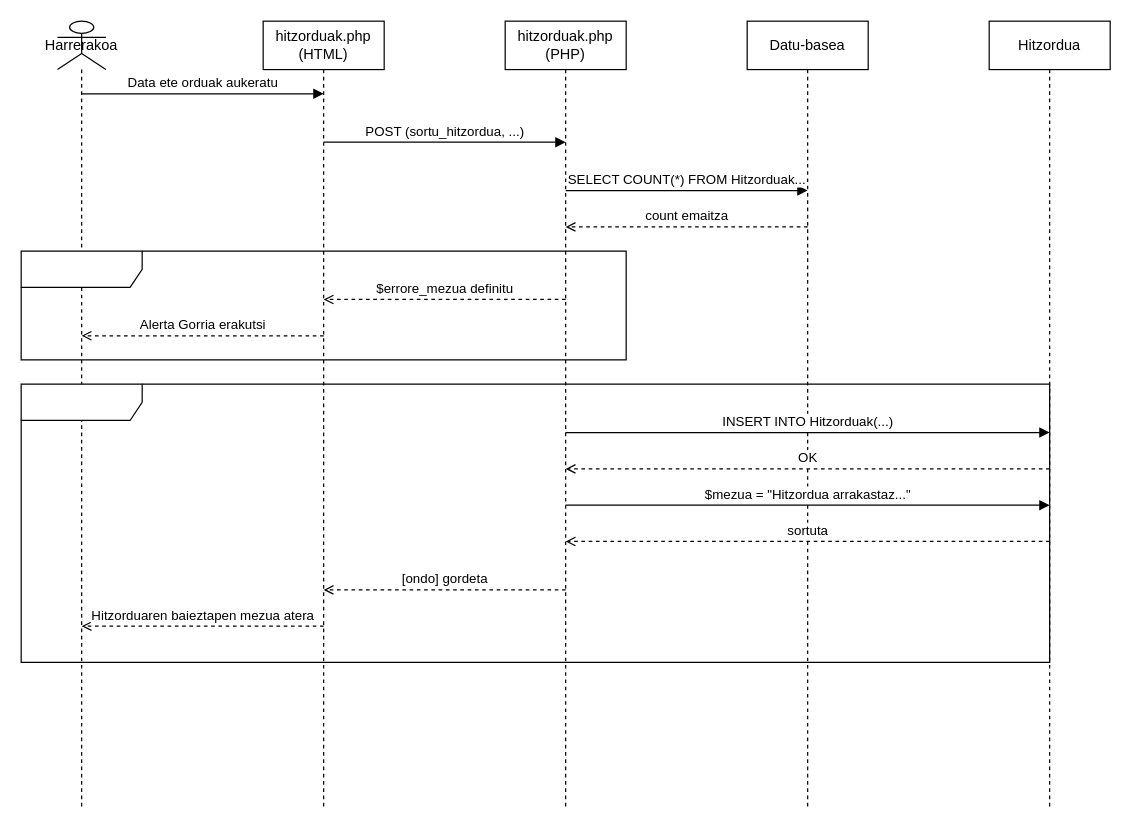
Some shapes in this 1131 by 829 pixel diagram are drawn without their labels. The shapes that lost their labels are listed below. From the top down, each one's box as (x1, y1, x2, y2) in pixels, then its label:
(20, 250, 626, 360): alt [count > 0 (Gatazka)]
(20, 383, 1050, 662): alt [count == 0 (Libre)]
